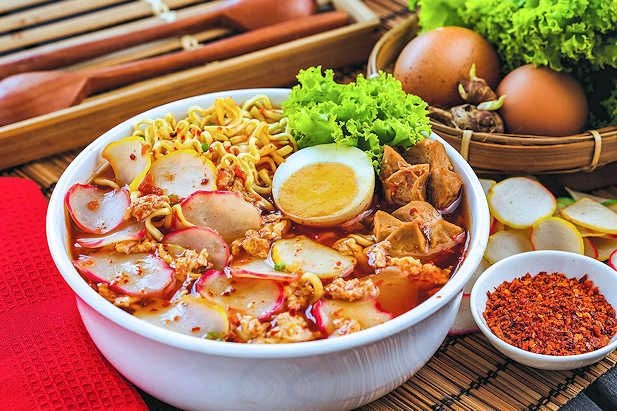seblak: (66, 96, 466, 344)
